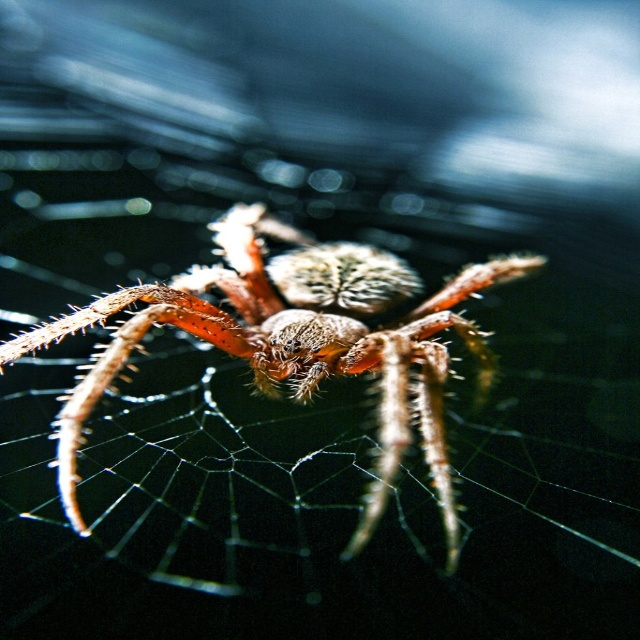Spider: (0, 202, 547, 575)
